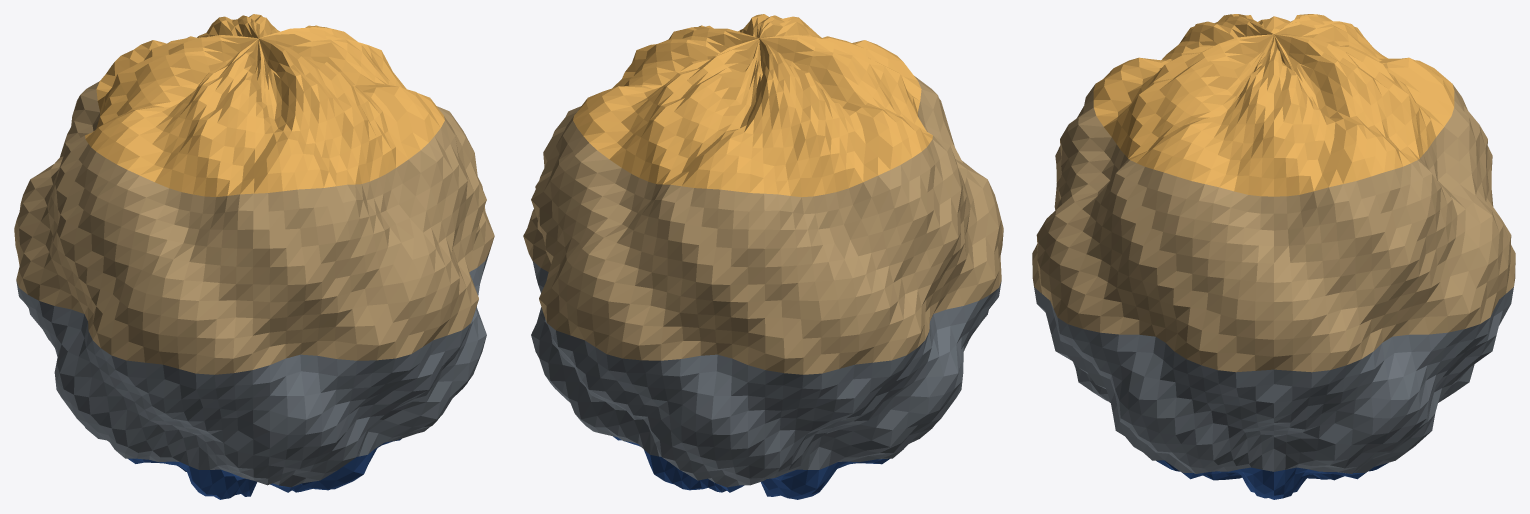
Rendered from prop.obj.
3 renders of one model, left to right at view 1: azimuth 30°, elevation 25°; view 2: azimuth 150°, elevation 25°; view 3: azimuth 270°, elevation 25°, orthographic.
Parts seen in each view (by area): view 1: prop; view 2: prop; view 3: prop.
Boxes of the visible parts, <box> form: prop: <box>14,14,494,499</box>; prop: <box>523,14,1003,499</box>; prop: <box>1032,14,1515,499</box>.
Bounding box in the file's own units: 2.07 × 2.11 × 2.1.
